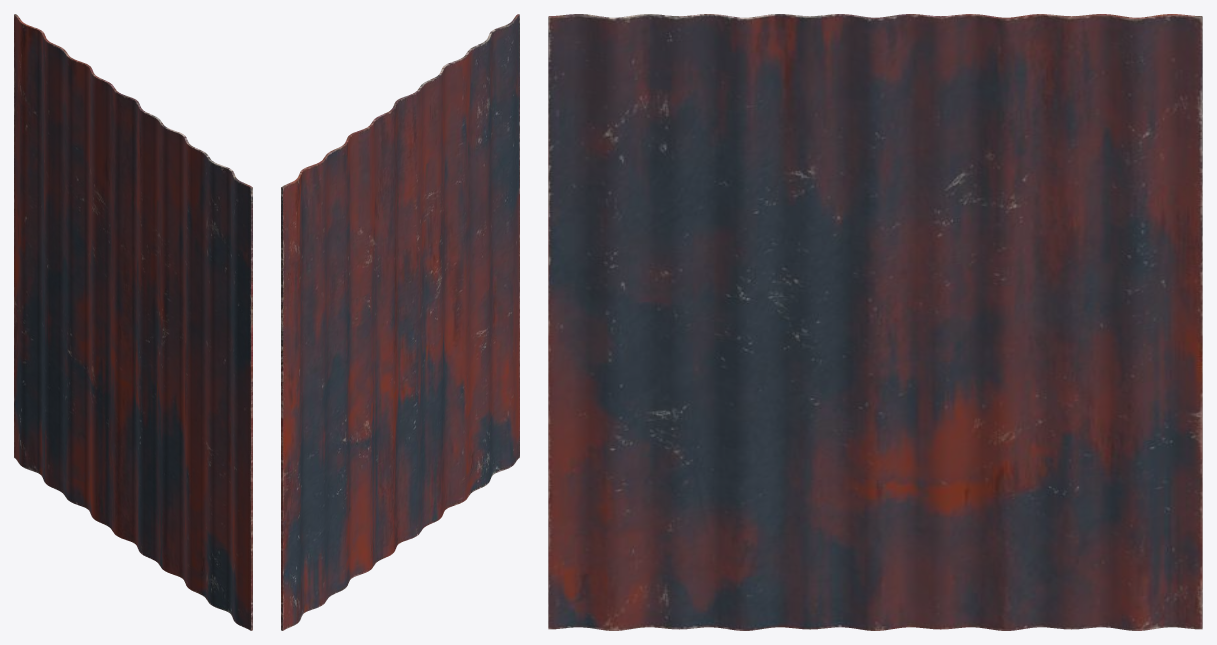
Rendered from egri_sac_c.gltf.
3 views of the same model, side by side, from view 1: azimuth 30°, elevation 25°; view 2: azimuth 150°, elevation 25°; view 3: azimuth 270°, elevation 25° (orthographic). The views are drawn at different scales.
Visible parts, largest first — view 1: egri_sac_c; view 2: egri_sac_c; view 3: egri_sac_c.
Boxes of the visible parts, x1,y1,x2,y2 form: egri_sac_c: [14, 14, 252, 630]; egri_sac_c: [281, 14, 519, 630]; egri_sac_c: [548, 14, 1202, 630].
Size of what is drawn, in the model's own units: 0.052 by 2.99 by 2.9.
Materials: 1 (1 with a texture image).
